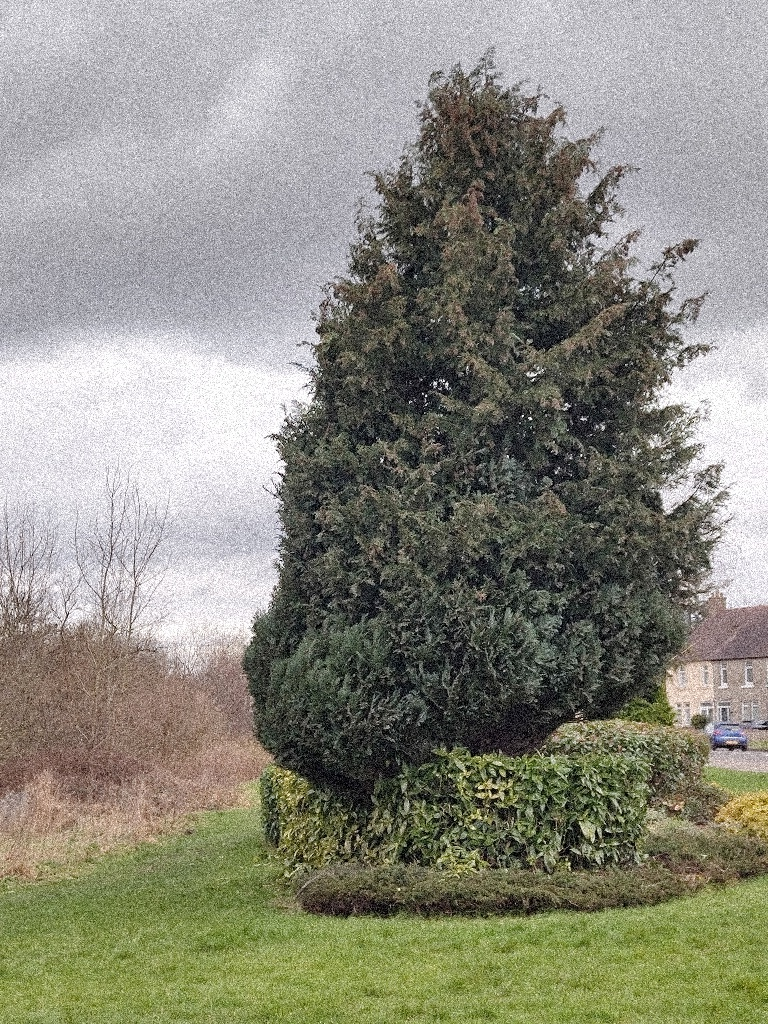Tree: (240, 41, 739, 872)
